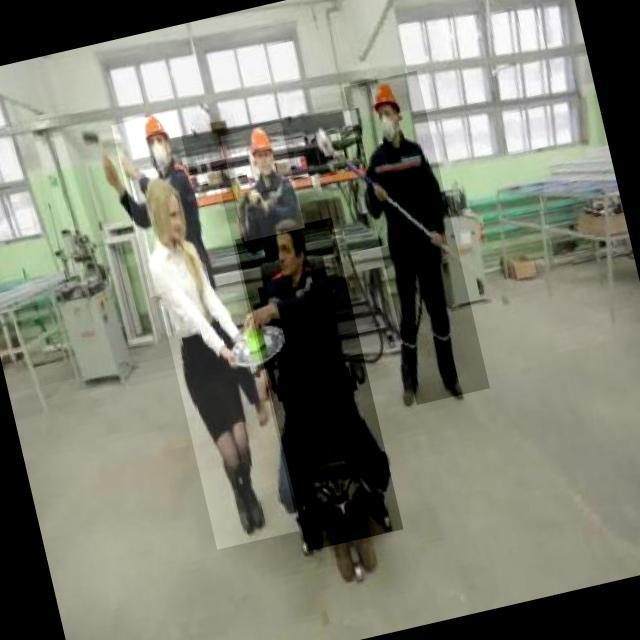Helmet: (366, 80, 401, 119), (244, 124, 274, 160), (139, 110, 171, 143)
Human: (135, 170, 300, 549), (235, 217, 403, 551), (344, 70, 490, 404), (111, 111, 215, 297), (221, 122, 306, 241)
